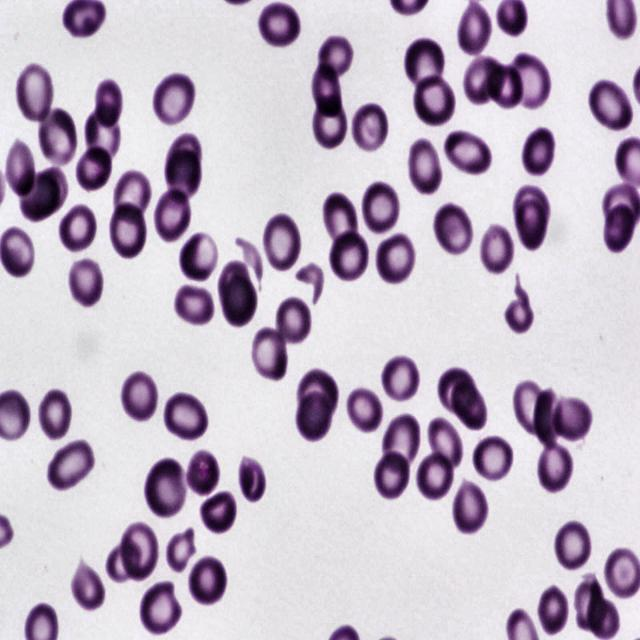red blood cell: (216, 257, 259, 329), (144, 456, 188, 522), (379, 414, 422, 479), (138, 579, 184, 638), (260, 211, 302, 275), (47, 438, 95, 494), (588, 77, 634, 134), (15, 62, 56, 125), (152, 72, 197, 129), (412, 72, 456, 129), (163, 391, 209, 445), (404, 37, 446, 96), (430, 205, 474, 261), (443, 128, 491, 179), (375, 230, 417, 288), (110, 169, 152, 227), (511, 53, 552, 112), (535, 436, 574, 498), (318, 188, 358, 248), (360, 179, 401, 237), (406, 136, 444, 198), (108, 199, 146, 261), (36, 110, 77, 167), (552, 518, 595, 572), (472, 433, 515, 487), (250, 323, 289, 382), (153, 184, 192, 243), (329, 227, 370, 283), (15, 173, 60, 224), (455, 0, 494, 58), (462, 55, 506, 106), (511, 380, 551, 435), (58, 201, 97, 257), (258, 0, 300, 52), (516, 126, 558, 178), (120, 523, 158, 580), (179, 230, 219, 284), (373, 447, 412, 502), (36, 386, 74, 442), (187, 554, 227, 607), (3, 138, 37, 200), (120, 370, 159, 424), (85, 107, 123, 162), (504, 272, 538, 333), (349, 101, 388, 154), (317, 31, 355, 85), (414, 452, 454, 503), (174, 282, 218, 328), (296, 390, 334, 443), (296, 370, 336, 420), (70, 559, 106, 614), (164, 150, 203, 200), (183, 446, 219, 500), (436, 366, 476, 414), (68, 256, 104, 309), (454, 477, 488, 533), (74, 147, 112, 197), (513, 184, 550, 235), (165, 134, 203, 183), (451, 382, 488, 432), (554, 395, 594, 441), (572, 578, 606, 632), (312, 100, 348, 151), (602, 202, 636, 256), (514, 198, 548, 252), (346, 385, 382, 435), (310, 64, 343, 118), (428, 417, 462, 469), (277, 297, 312, 347), (382, 355, 420, 401), (196, 489, 235, 533), (536, 587, 569, 637), (93, 76, 124, 129), (166, 526, 199, 575), (534, 388, 560, 450), (488, 63, 523, 109), (236, 456, 268, 506), (34, 167, 68, 214), (106, 539, 142, 582), (480, 225, 512, 273), (586, 595, 619, 638)
